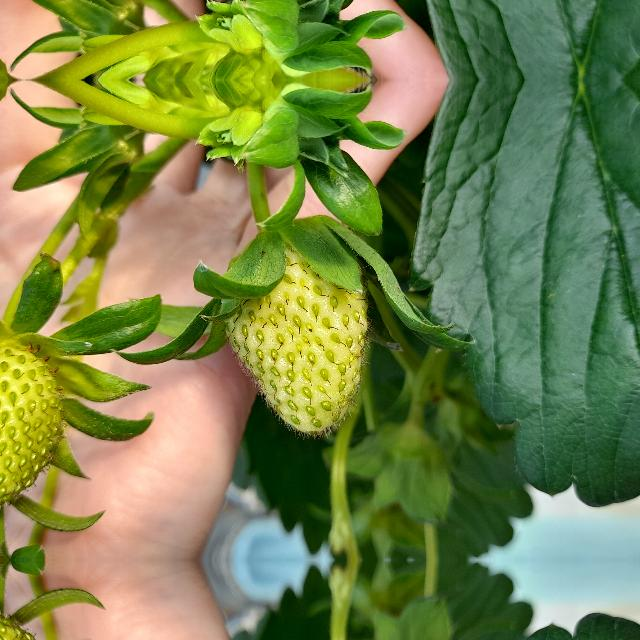Health_25: (224, 240, 368, 432), (0, 335, 68, 507)
